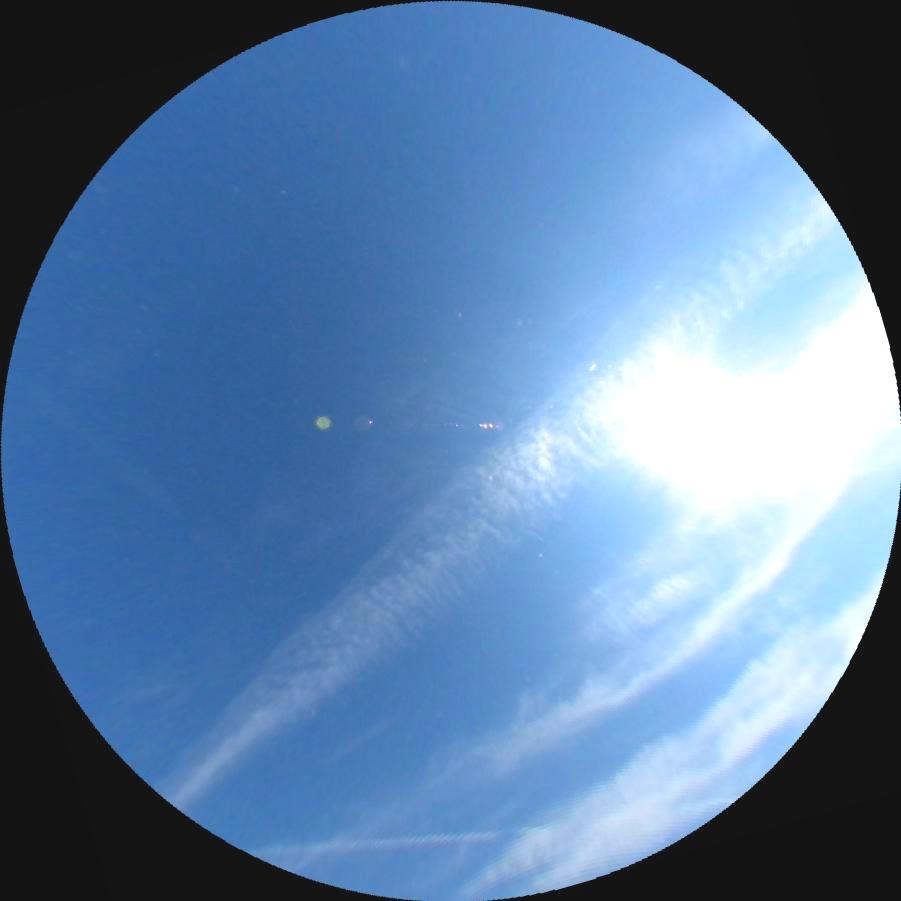contrail old: (247, 827, 538, 857)
contrail veryold: (129, 146, 855, 839)
sun: (629, 376, 797, 482)
